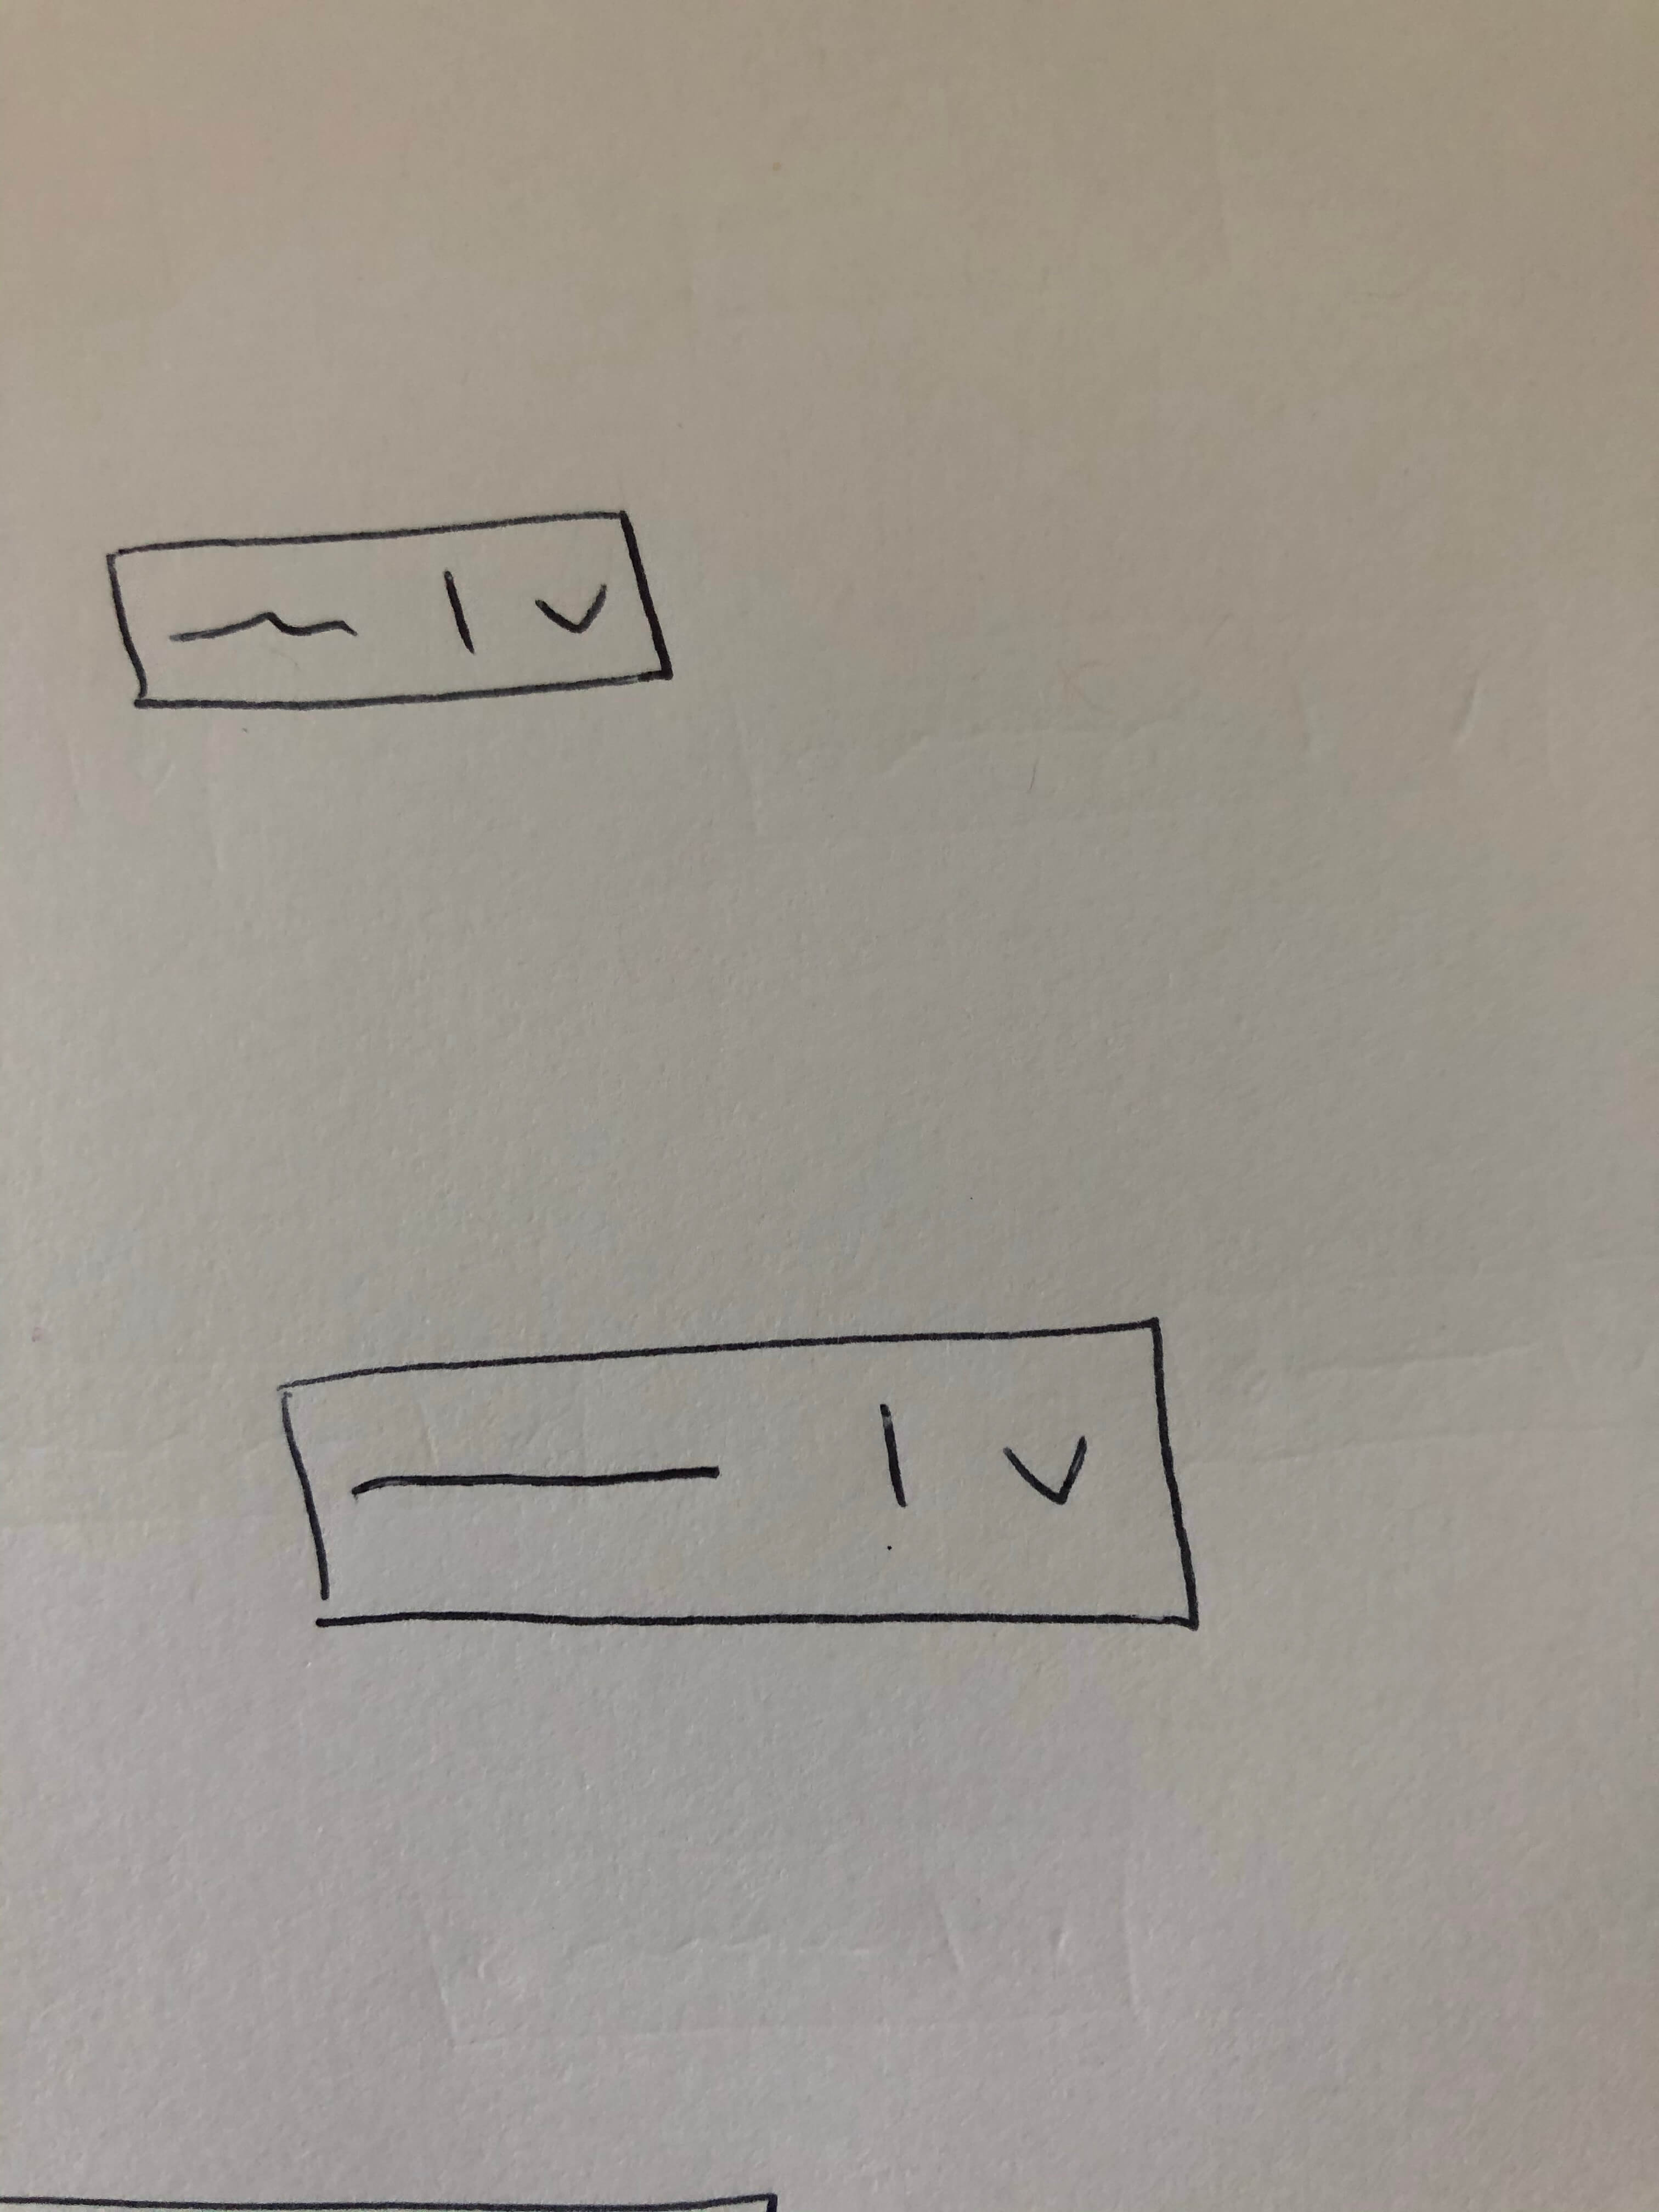split-button: (253, 1303, 1232, 1667), (85, 488, 697, 745)
